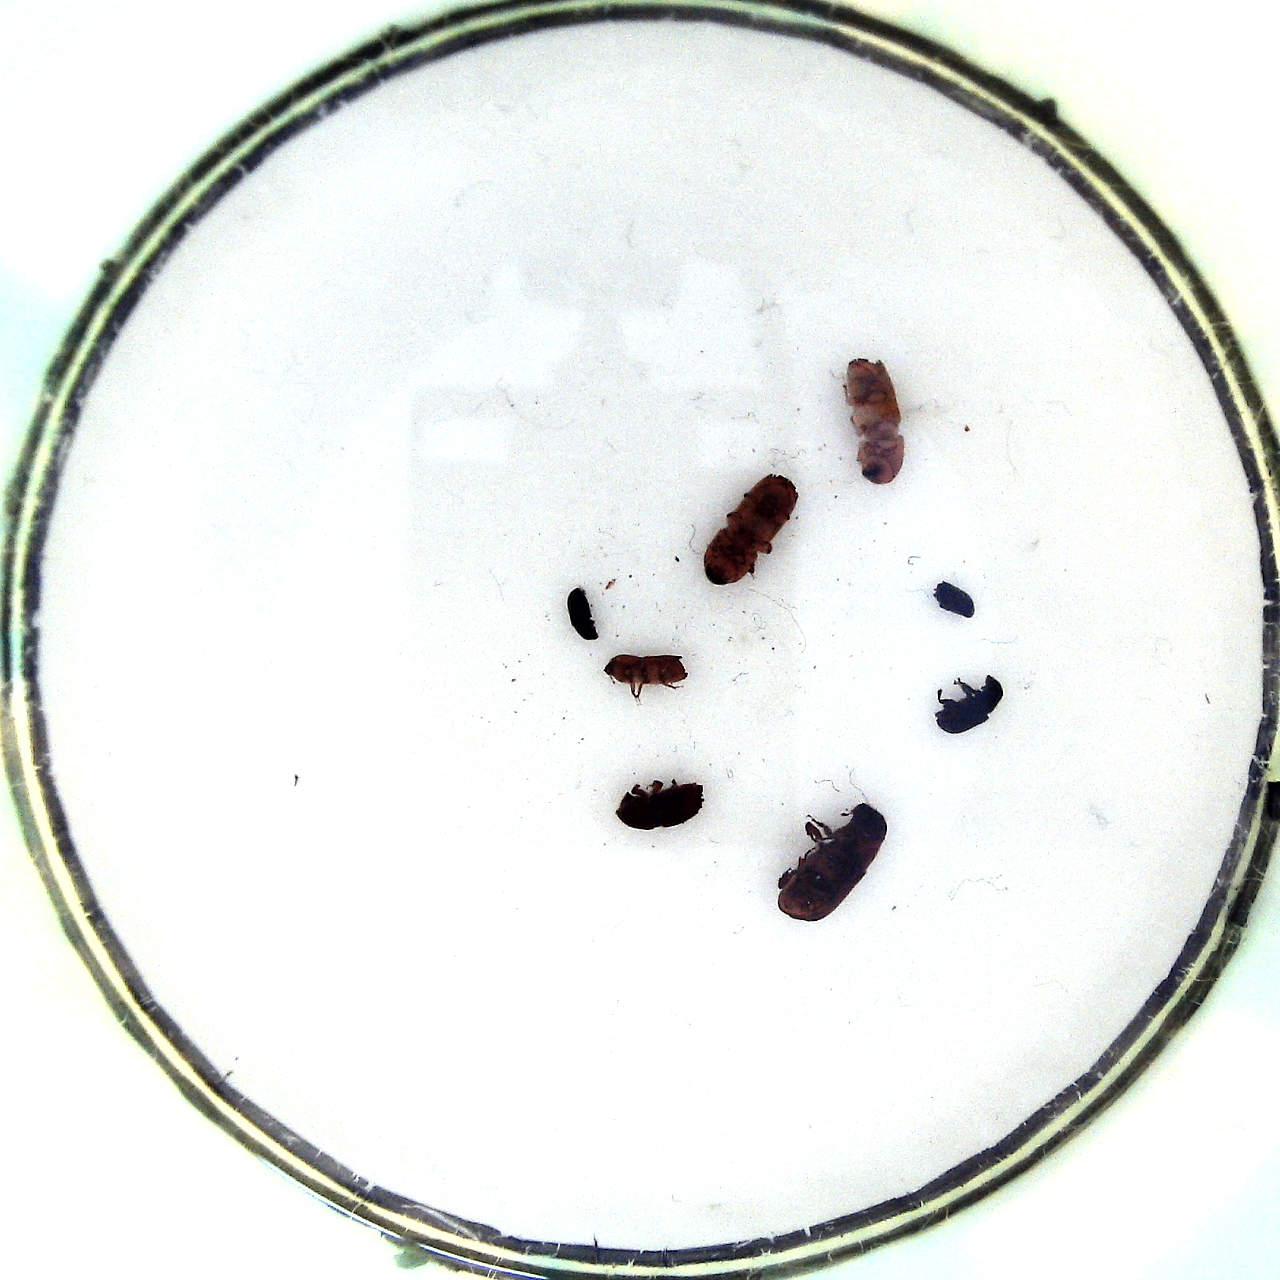Boerner: (697, 469, 805, 592), (839, 349, 911, 486)
Leconte: (772, 799, 890, 925)
Linnaeus: (611, 772, 712, 833)
acuminatus: (598, 648, 690, 699)
armandi: (930, 672, 1005, 736)
coleoptera: (559, 583, 602, 646), (934, 576, 979, 622)
